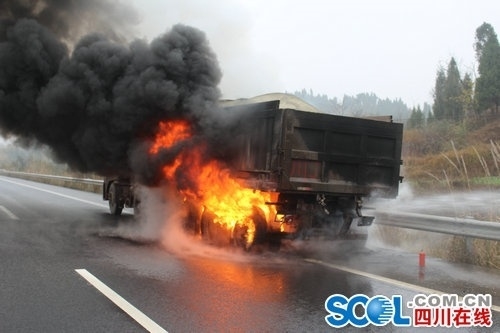fire: (151, 120, 287, 240)
